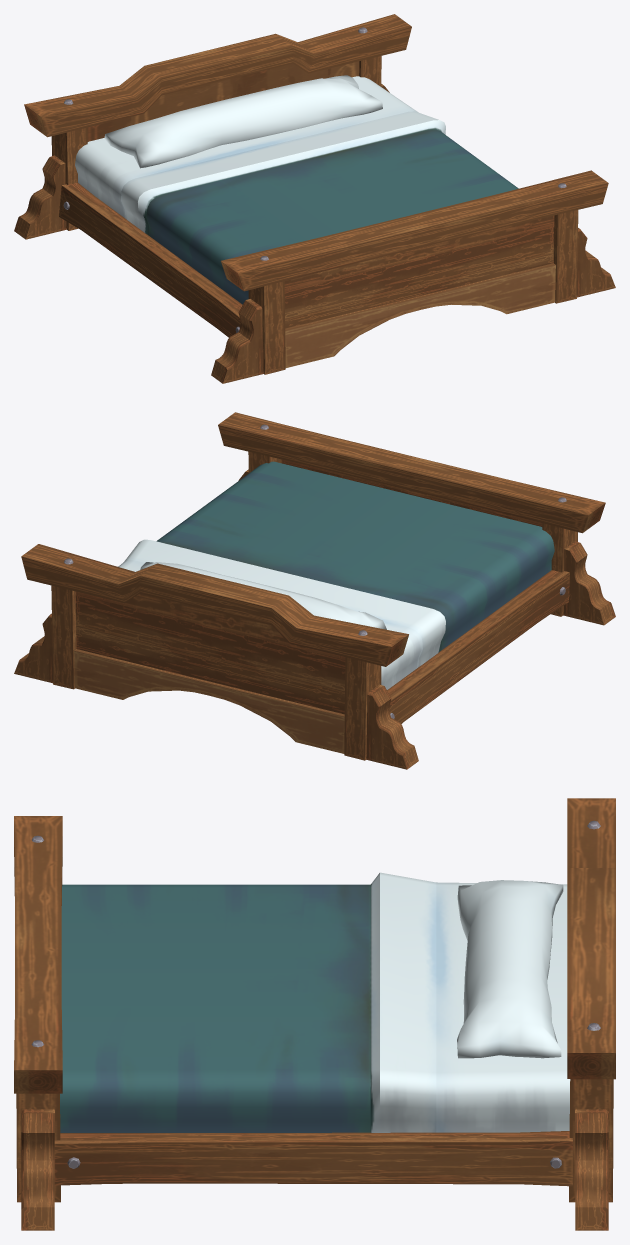
The model's file is Bed_Double.fbx.
The picture shows the model from 3 angles, top to bottom: view 1: azimuth 30°, elevation 25°; view 2: azimuth 150°, elevation 25°; view 3: azimuth 270°, elevation 25°; orthographic projection. The views are drawn at different scales.
Visible parts, largest first — view 1: Bed_Double; view 2: Bed_Double; view 3: Bed_Double.
Boxes of the visible parts, bbox=[...] form: Bed_Double: bbox=[14, 14, 615, 383]; Bed_Double: bbox=[14, 412, 615, 769]; Bed_Double: bbox=[14, 798, 615, 1230].
Size of the model in its own units: 256 by 81.4 by 241.
